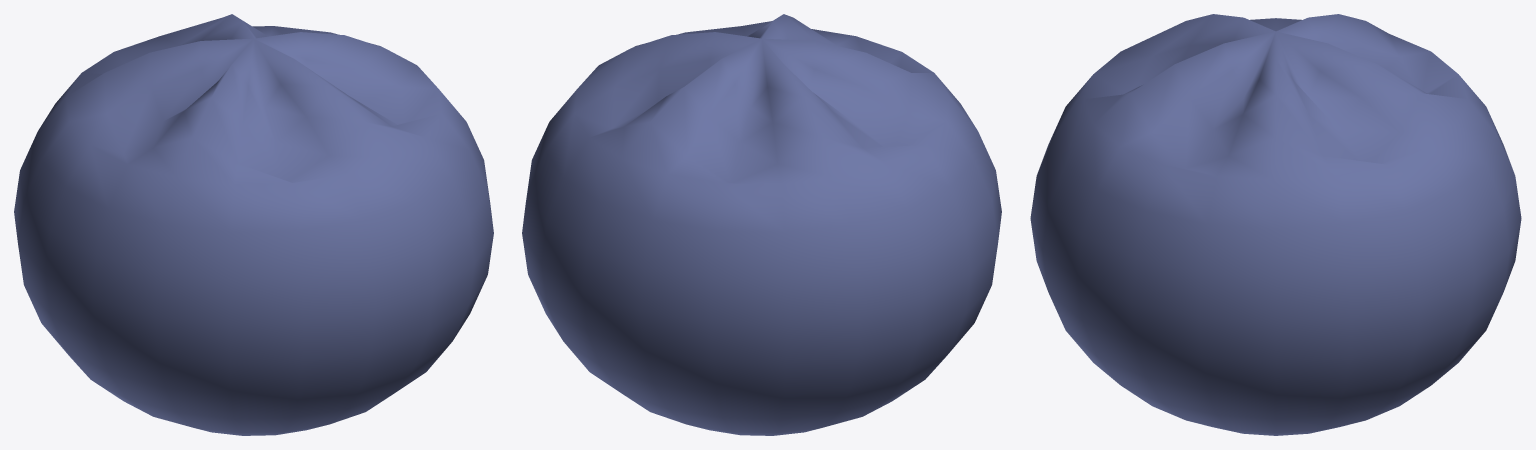
File: food_blueberry.glb
The picture shows the model from 3 angles, left to right: view 1: azimuth 30°, elevation 25°; view 2: azimuth 150°, elevation 25°; view 3: azimuth 270°, elevation 25°; orthographic projection.
Visible parts, largest first — view 1: food_blueberry; view 2: food_blueberry; view 3: food_blueberry.
Part boxes in pixels (<box>): food_blueberry: <box>14,14,493,435</box>; food_blueberry: <box>522,14,1001,435</box>; food_blueberry: <box>1030,14,1521,435</box>.
Bounding box in the file's own units: 0.0104 × 0.00884 × 0.0104.
